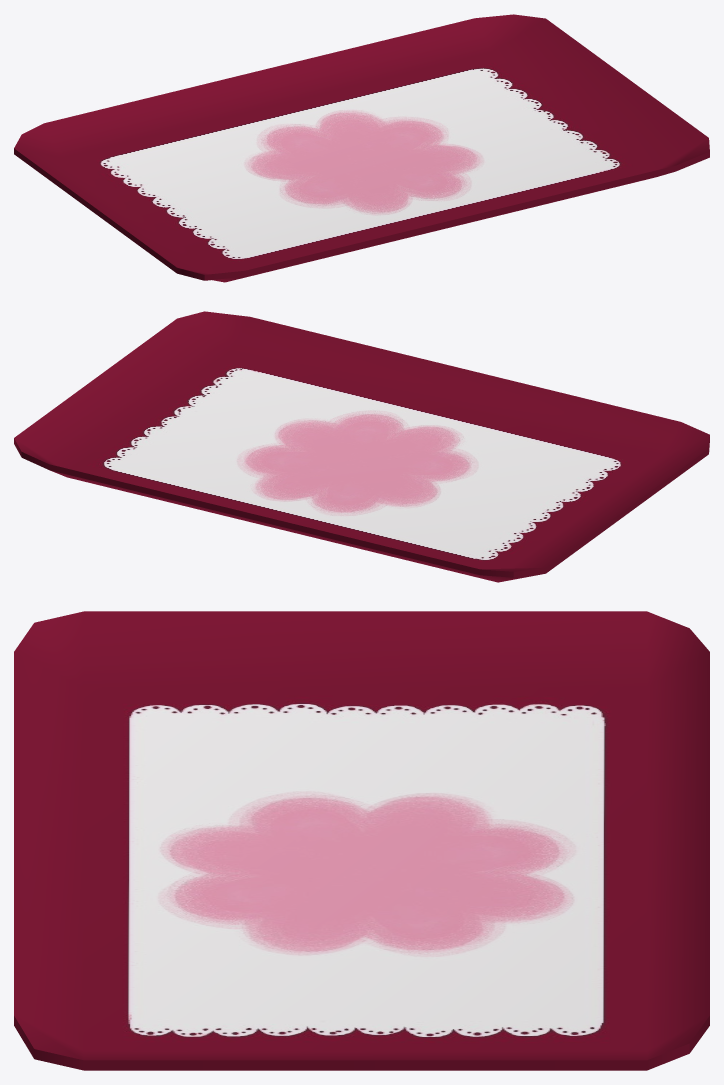
File: Bandeja_Model.fbx
3 views of the same model, one above another, from view 1: azimuth 30°, elevation 25°; view 2: azimuth 150°, elevation 25°; view 3: azimuth 270°, elevation 25° (orthographic). The views are drawn at different scales.
Visible parts, largest first — view 1: Bandeja; view 2: Bandeja; view 3: Bandeja.
Boxes of the visible parts, box(x1,y1,x2,y2) form: Bandeja: box(14, 14, 709, 282); Bandeja: box(14, 311, 709, 582); Bandeja: box(14, 611, 709, 1070).
Bounding box in the file's own units: 3.82 × 0.1818 × 2.5.
